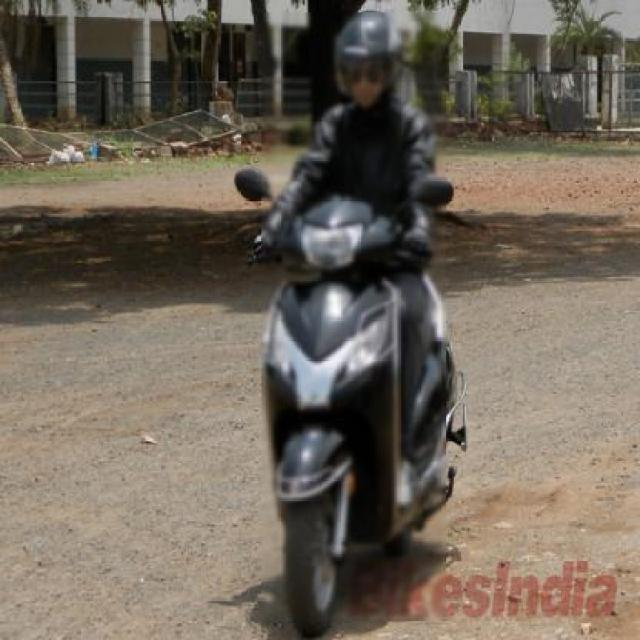helmet: (323, 13, 413, 129)
motorcycle: (218, 14, 488, 640)
